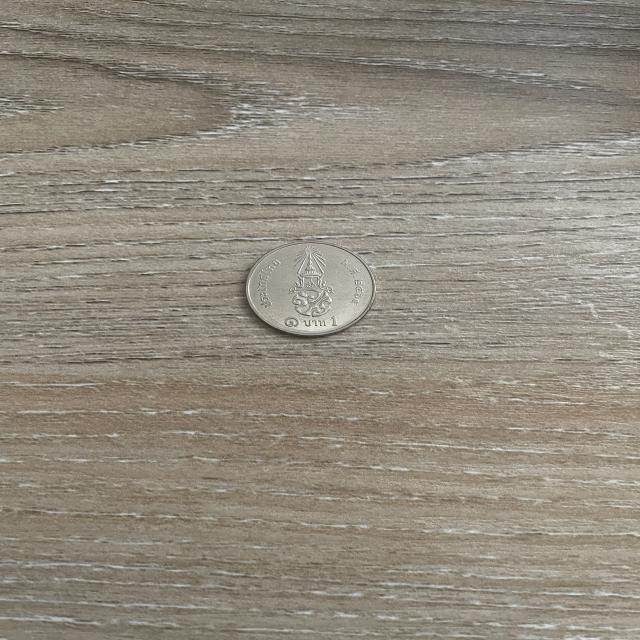1 Bath: (239, 232, 388, 347)
